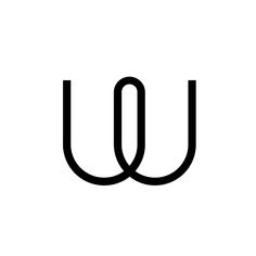w: (50, 57, 210, 201)
